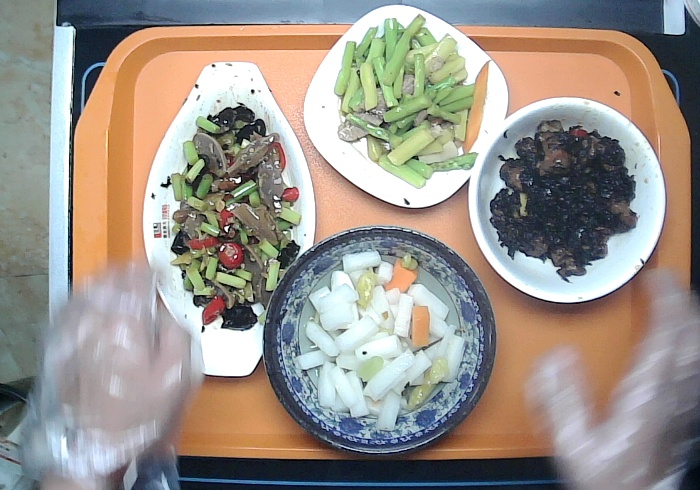ZNLD-Qing_Hua_Wan: (258, 221, 496, 454)
ZNLD-Si_Fang_Wan: (300, 1, 513, 210)
ZNLD-Tang_Wan: (467, 98, 664, 305)
ZNLD-Yu_Pan: (147, 55, 315, 380)
